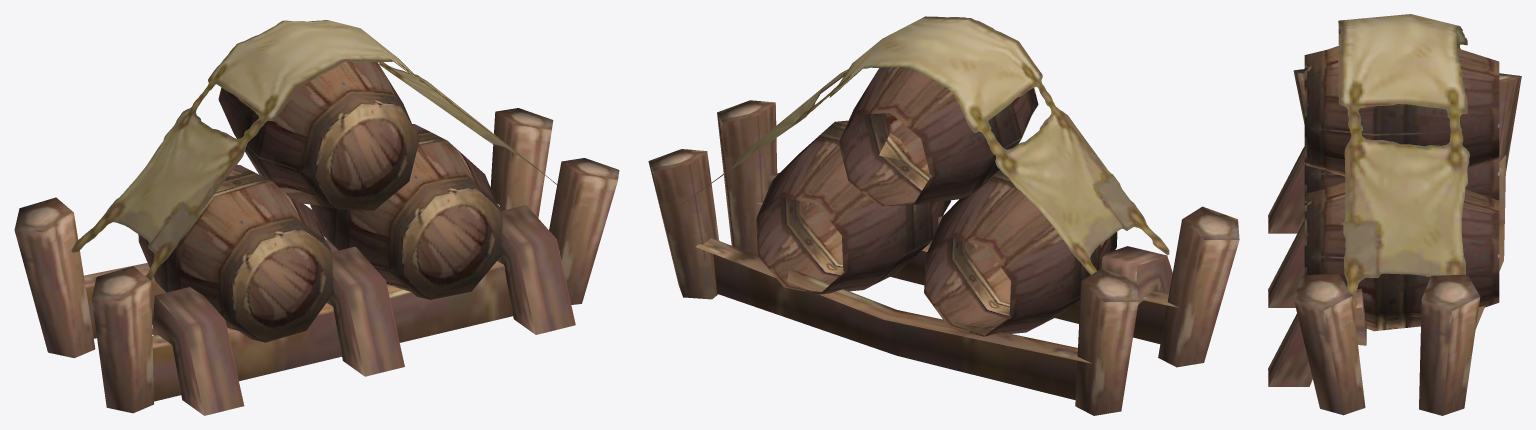
Rendered from Map_07_wooden08.FBX.
The picture shows the model from 3 angles, left to right: view 1: azimuth 30°, elevation 25°; view 2: azimuth 150°, elevation 25°; view 3: azimuth 270°, elevation 25°; orthographic projection. The views are drawn at different scales.
Visible parts, largest first — view 1: Map_07_wooden08b, Map_07_wooden08a; view 2: Map_07_wooden08b, Map_07_wooden08a; view 3: Map_07_wooden08b, Map_07_wooden08a.
Boxes of the visible parts, x1,y1,x2,y2 form: Map_07_wooden08b: (14, 61, 619, 415); Map_07_wooden08a: (71, 20, 557, 280); Map_07_wooden08b: (648, 67, 1239, 415); Map_07_wooden08a: (677, 16, 1169, 274); Map_07_wooden08b: (1268, 46, 1521, 415); Map_07_wooden08a: (1338, 14, 1469, 310).
Size of the model in its own units: 738 by 391 by 324.
Materials: 2 (2 with a texture image).
